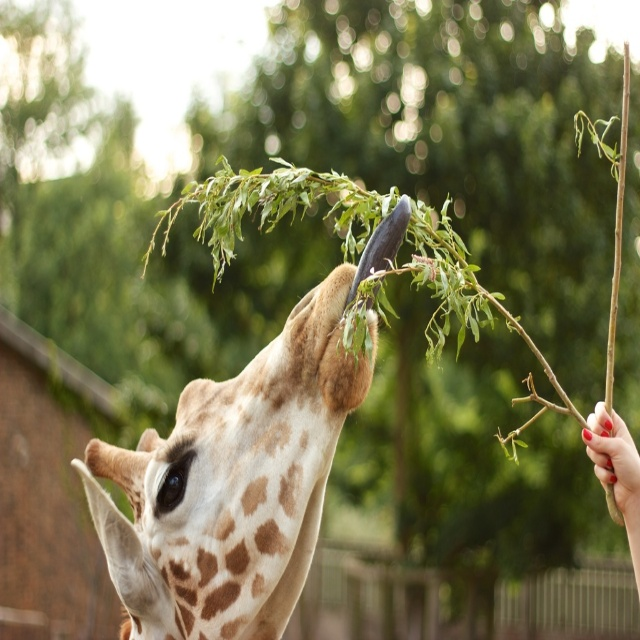Giraffe: (74, 257, 391, 639)
